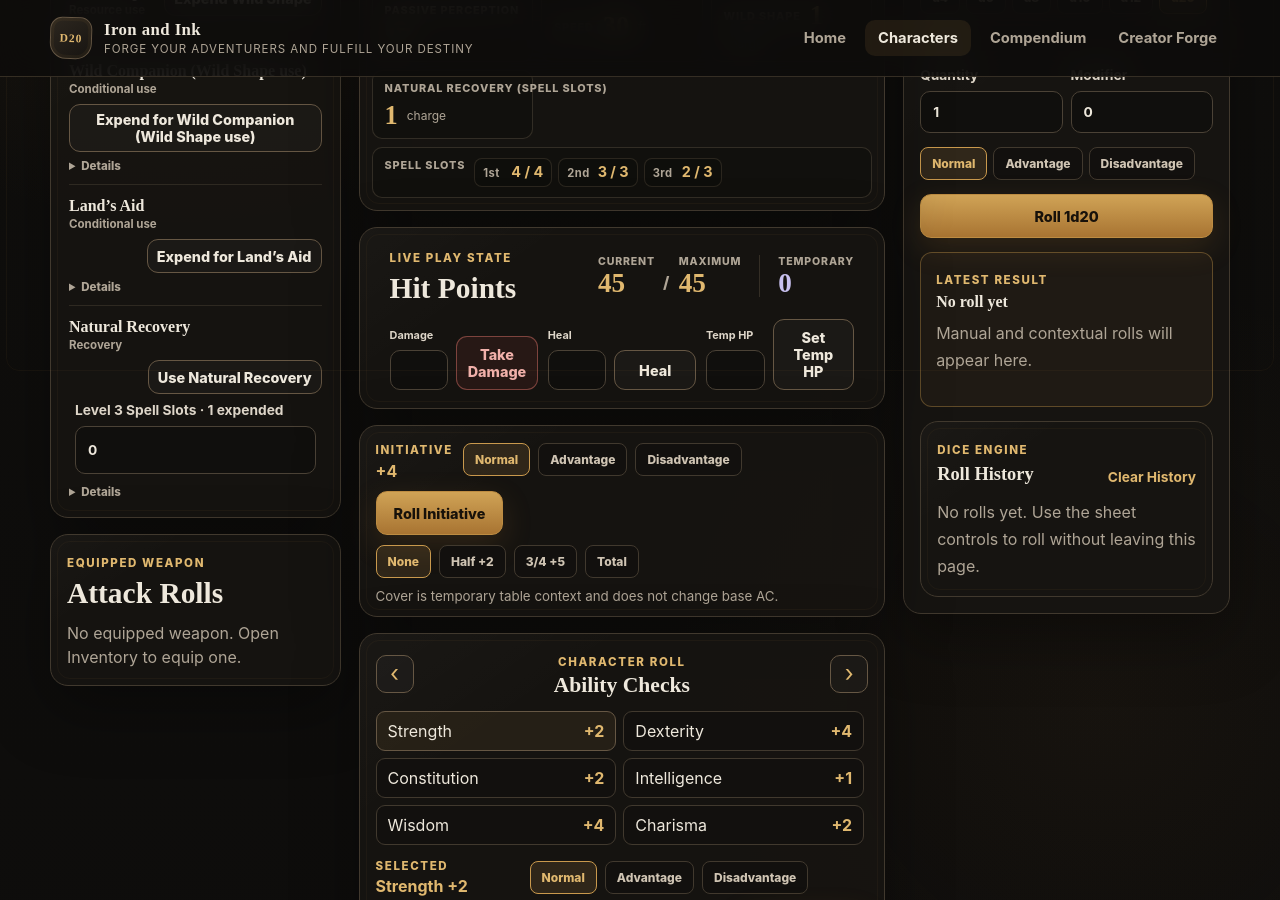
Scenario: Milestone 13C PLAY resource transactions › renders and executes real Druid Natural Recovery through the same weighted transaction UI
(page scrolled)
Replace the text in the number field labelled "Level 3 Spell Slots · 1 expended" with "1" at (195, 450), box [75,426,316,474]
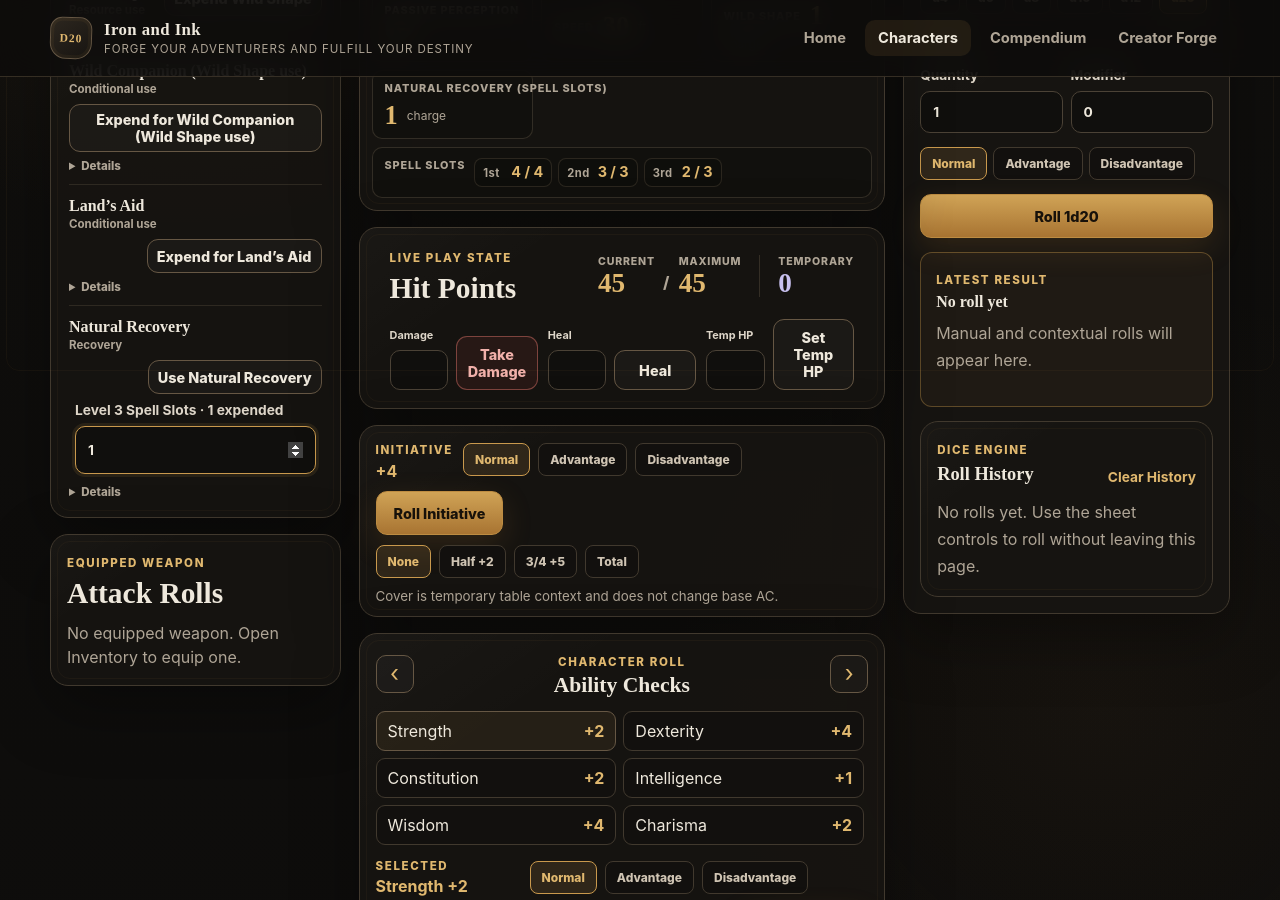
Click the button "Use Natural Recovery".
click(235, 377)  # box [148,360,322,394]
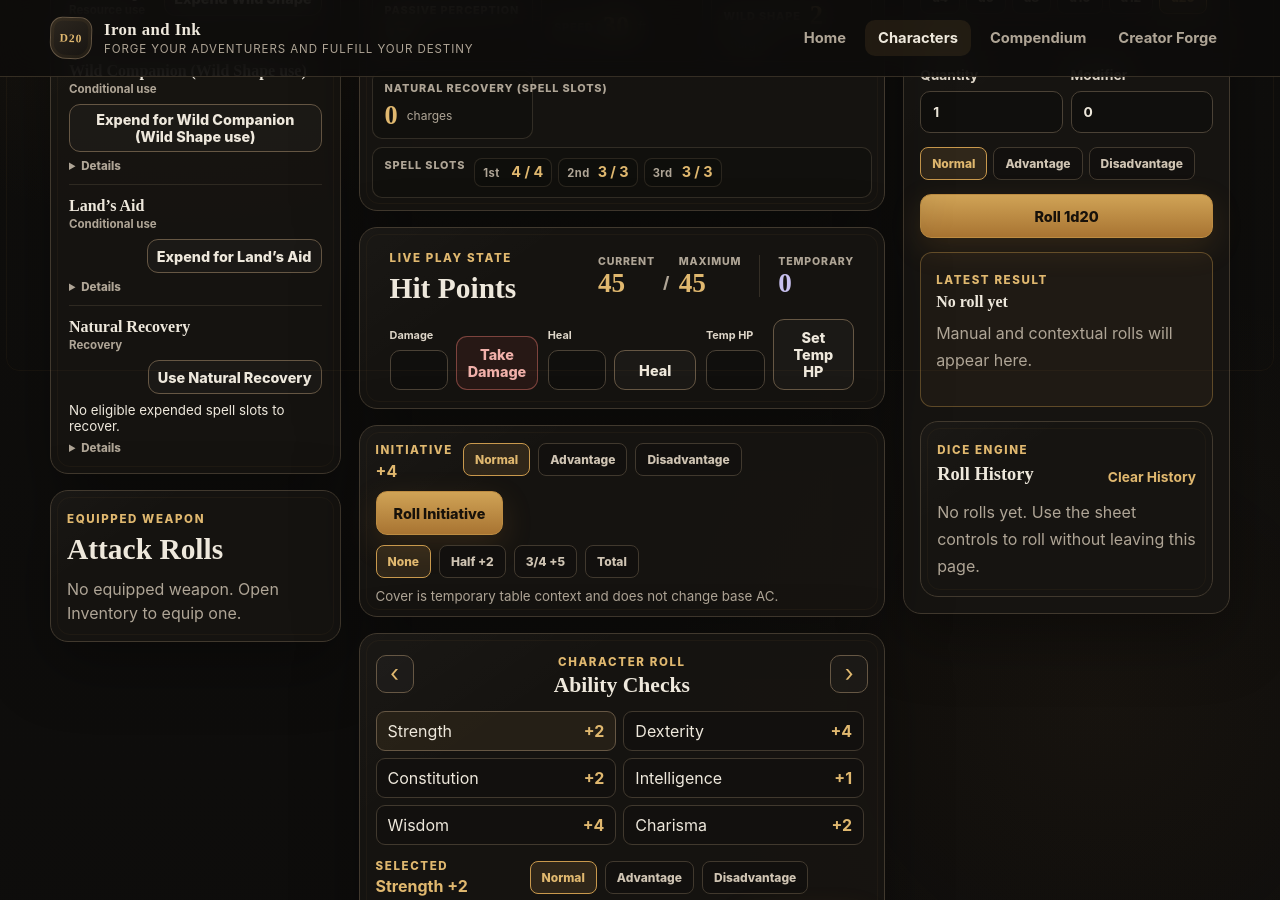
Expected: the text "0" below "Natural Recovery (Spell Slots)" is shown, [384,100,398,130]
